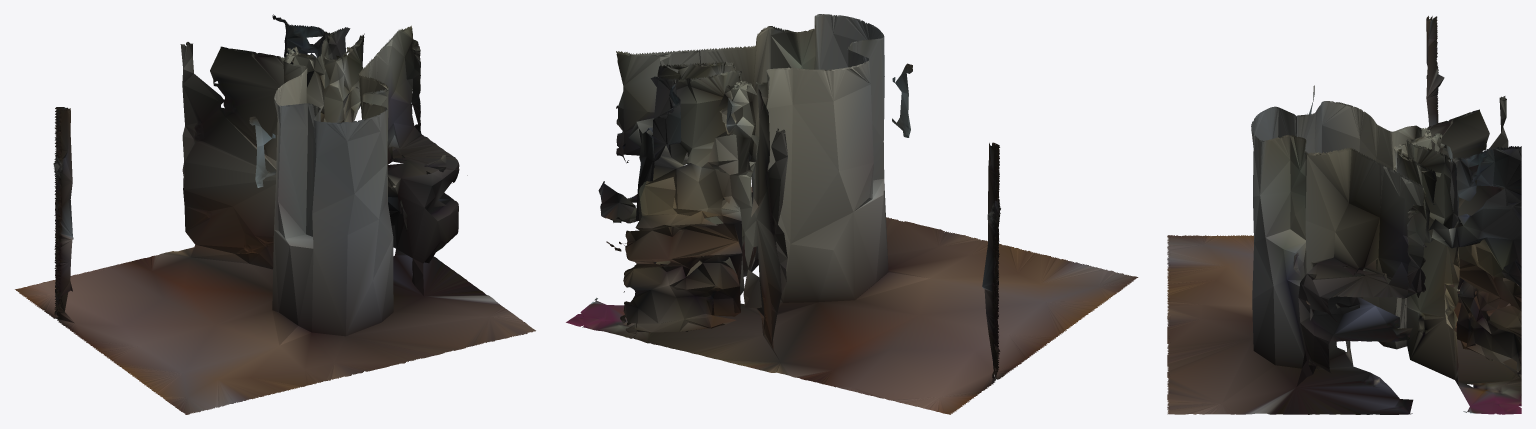
The model's file is coarse.glb.
3 views of the same model, side by side, from view 1: azimuth 30°, elevation 25°; view 2: azimuth 150°, elevation 25°; view 3: azimuth 270°, elevation 25° (orthographic). The views are drawn at different scales.
Size of the model in its own units: 2.23 by 1.32 by 1.89.
